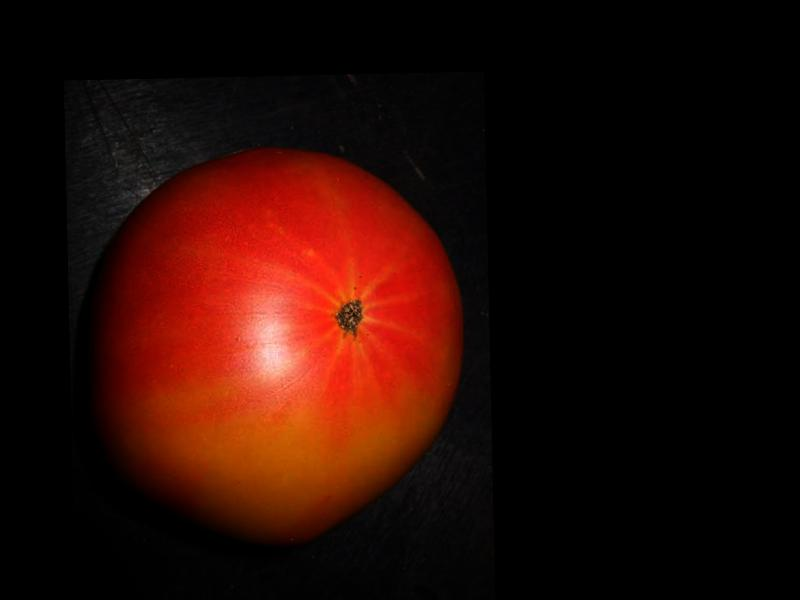Tomato: (81, 144, 468, 545)
